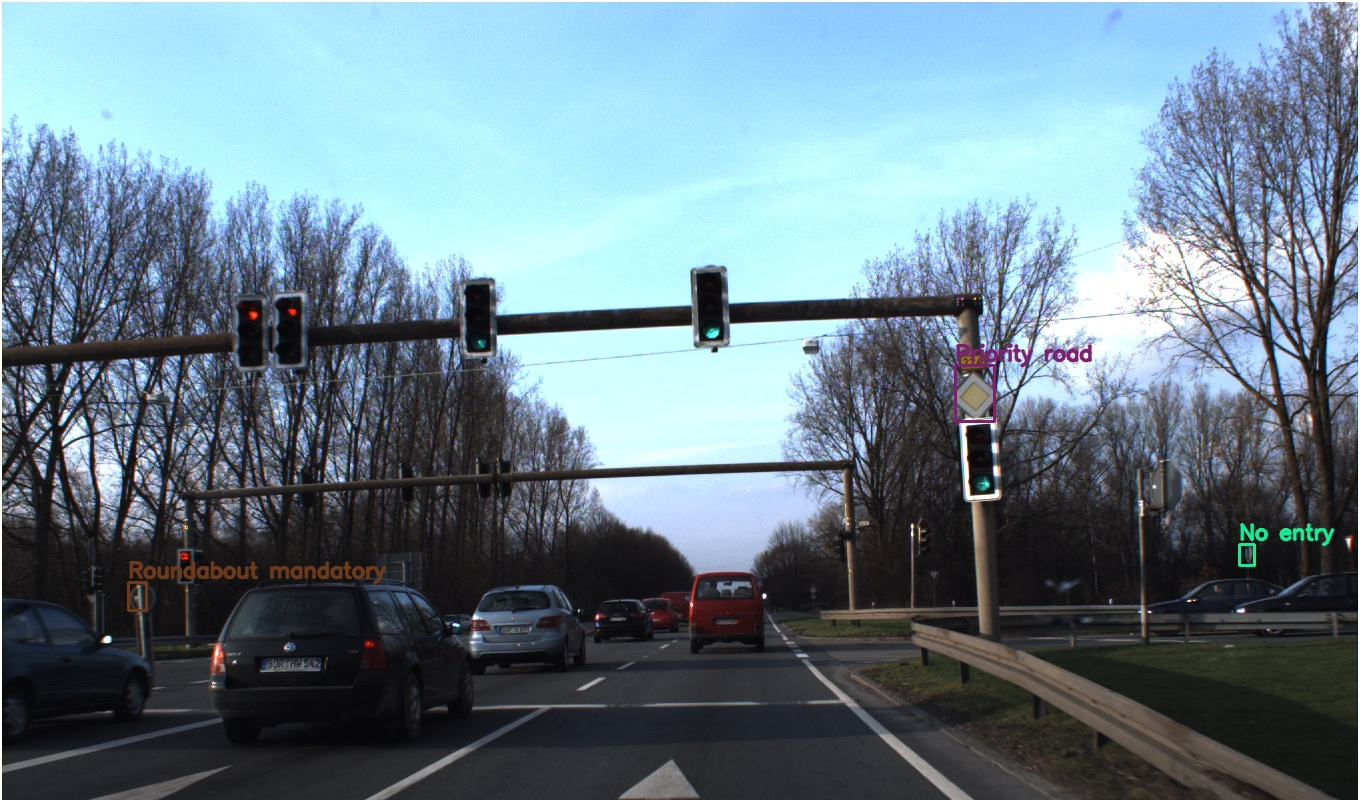Priority road: (779, 424, 816, 461)
Speed limit (50km/h): (785, 460, 811, 486)
